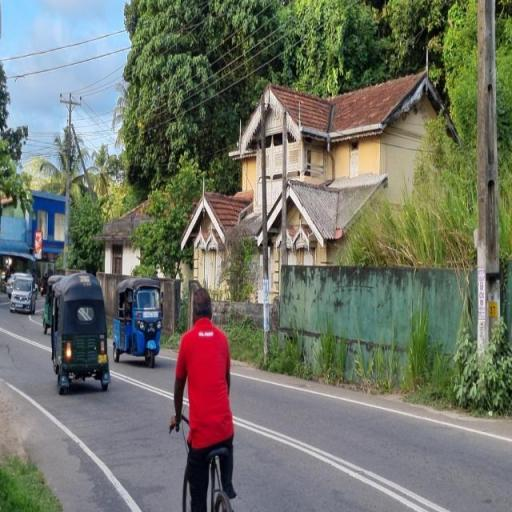double_white_line: (0, 382, 142, 511)
